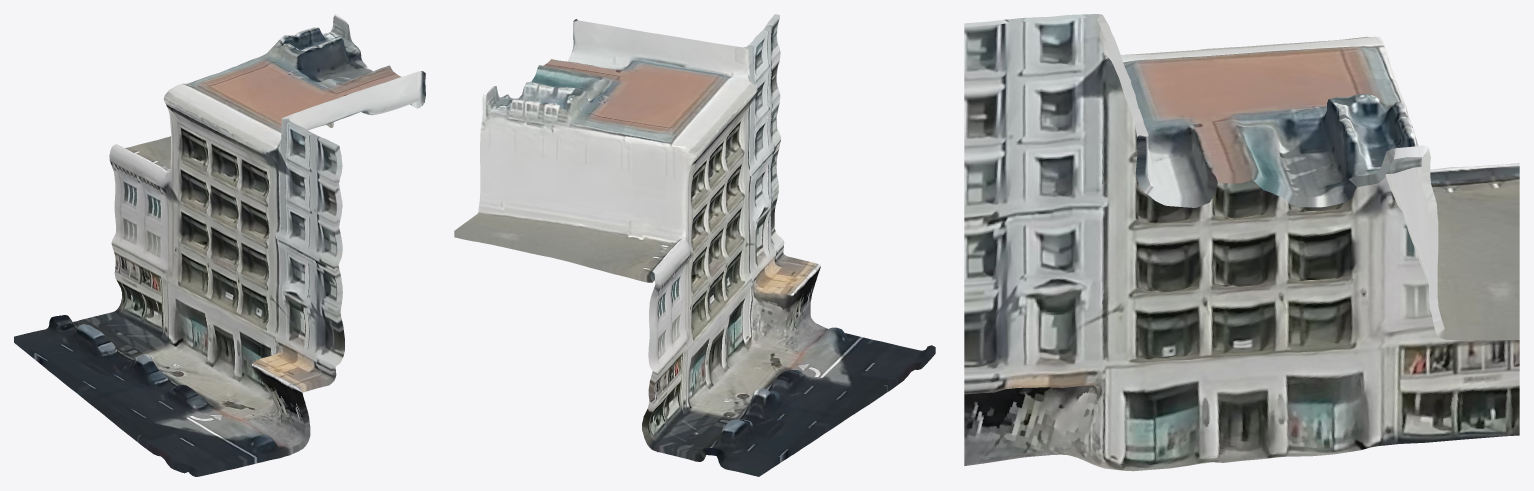
File: z20-167755-405245-h0-yup-uvflip-v3-world.glb
3 renders of one model, left to right at view 1: azimuth 30°, elevation 25°; view 2: azimuth 150°, elevation 25°; view 3: azimuth 270°, elevation 25°, orthographic. The views are drawn at different scales.
Bounding box in the file's own units: 30.16 × 29.2 × 30.32.
Materials: 1 (1 with a texture image).
